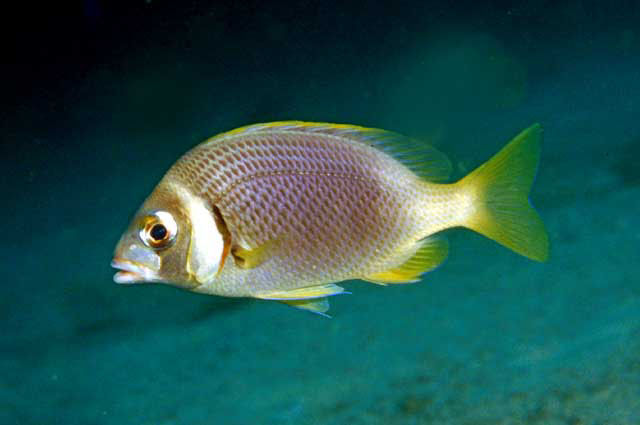fish: (109, 120, 552, 319)
